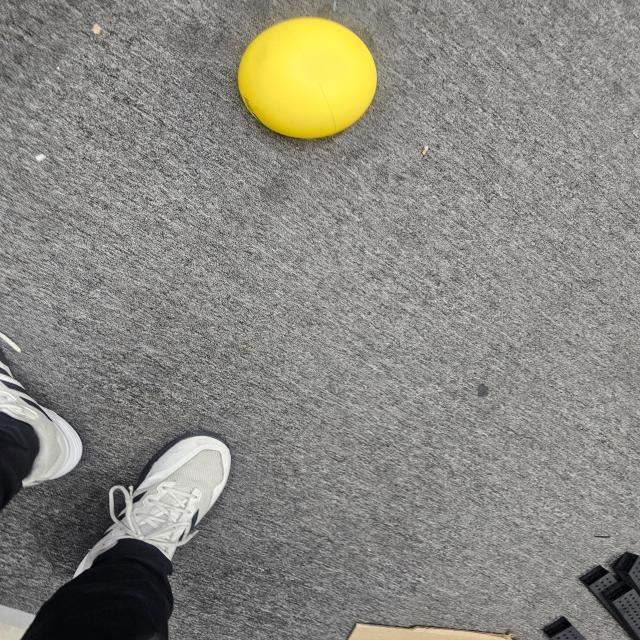Fuel: (232, 11, 381, 145)
